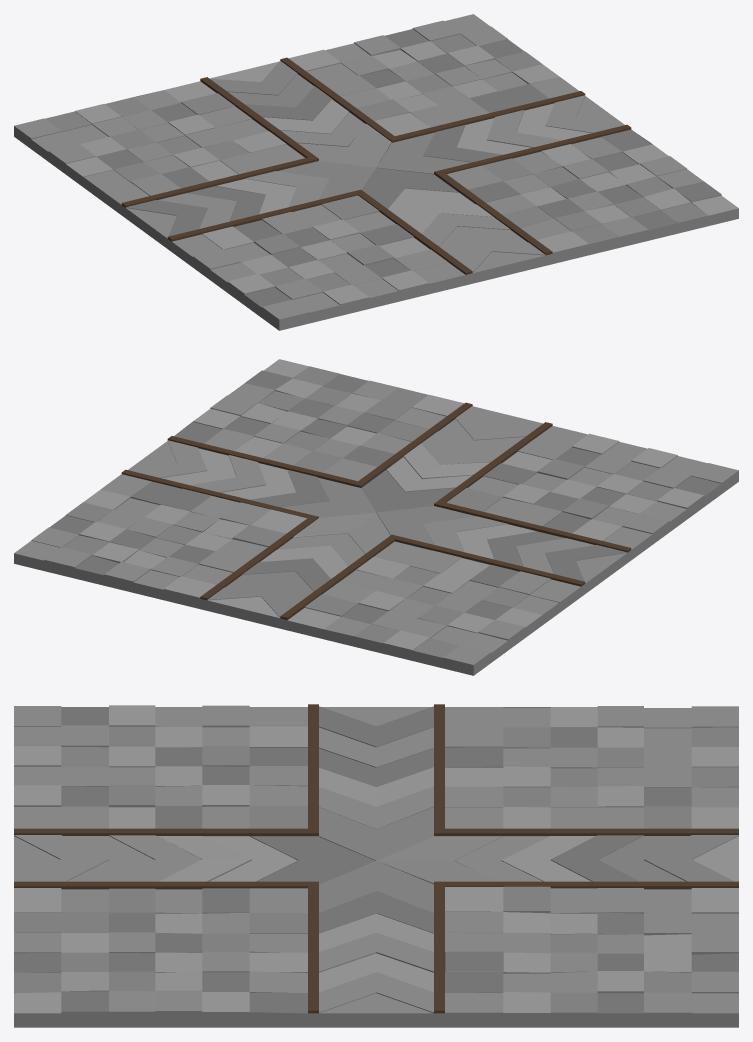
File: stonyFloor.fbx
3 views of the same model, one above another, from view 1: azimuth 30°, elevation 25°; view 2: azimuth 150°, elevation 25°; view 3: azimuth 270°, elevation 25° (orthographic). The views are drawn at different scales.
Visible parts, largest first — view 1: StonyFloor; view 2: StonyFloor; view 3: StonyFloor.
Part boxes in pixels (box(x1,y1,x2,y2)): StonyFloor: box(14, 14, 738, 330); StonyFloor: box(14, 359, 738, 675); StonyFloor: box(14, 704, 738, 1027).
Size of the model in its own units: 30 by 0.7767 by 30.
